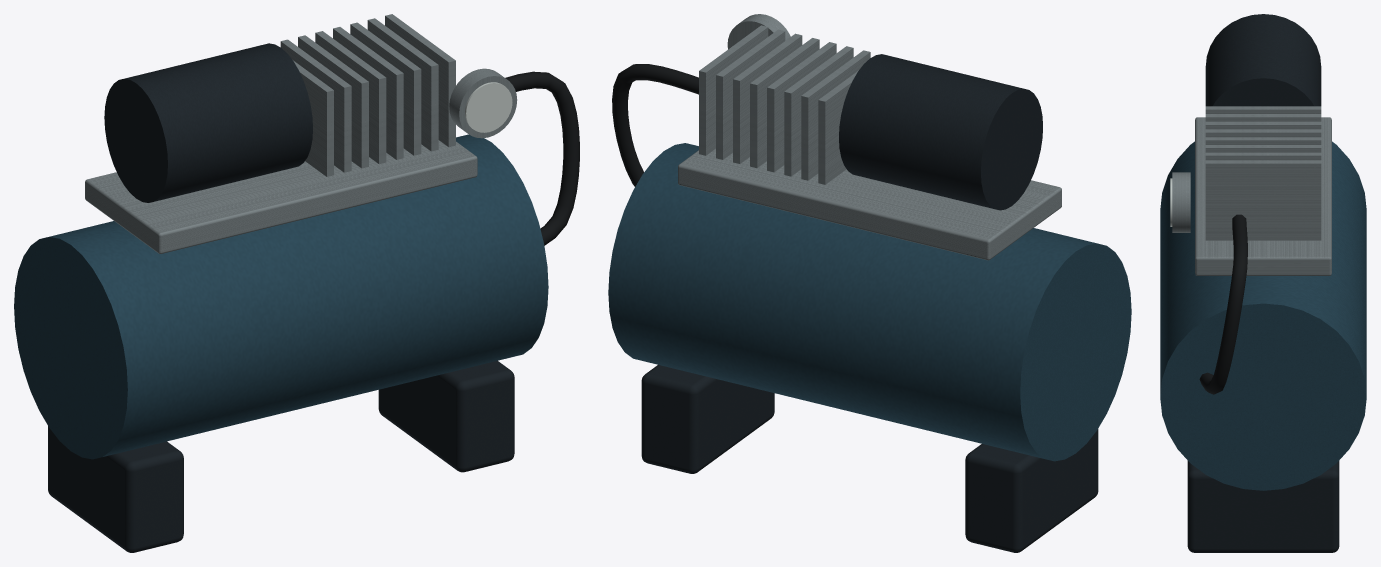
File: air-compressor.d7683fecf872.glb
3 views of the same model, side by side, from view 1: azimuth 30°, elevation 25°; view 2: azimuth 150°, elevation 25°; view 3: azimuth 270°, elevation 25° (orthographic). The views are drawn at different scales.
Visible parts, largest first — view 1: air_receiver_0001, motor_0005, motor_platform_0004, saddle_0002, saddle_0003, air_line_0016, cooling_fin_0011, cooling_fin_0009, cooling_fin_0012, cooling_fin_0008, cooling_fin_0010, cooling_fin_0007 (+4 smaller); view 2: air_receiver_0001, motor_0005, motor_platform_0004, saddle_0002, saddle_0003, air_line_0016, cooling_fin_0008, cooling_fin_0009, cooling_fin_0007, cooling_fin_0012, cooling_fin_0010, cooling_fin_0013 (+3 smaller); view 3: air_receiver_0001, saddle_0003, motor_0005, cooling_fin_0013, motor_platform_0004, air_line_0016, gauge_0014, cooling_fin_0009, cooling_fin_0008, cooling_fin_0012, cooling_fin_0006, cooling_fin_0007 (+2 smaller).
Part boxes in pixels (x1=…): air_receiver_0001: x1=14, y1=134, x2=548, y2=459; motor_0005: x1=104, y1=43, x2=312, y2=202; motor_platform_0004: x1=85, y1=140, x2=477, y2=253; saddle_0002: x1=48, y1=426, x2=183, y2=552; saddle_0003: x1=378, y1=360, x2=514, y2=472; air_line_0016: x1=505, y1=71, x2=579, y2=245; cooling_fin_0011: x1=350, y1=22, x2=421, y2=155; cooling_fin_0009: x1=315, y1=31, x2=386, y2=164; cooling_fin_0012: x1=367, y1=18, x2=438, y2=151; cooling_fin_0008: x1=298, y1=35, x2=368, y2=168; cooling_fin_0010: x1=333, y1=27, x2=403, y2=159; cooling_fin_0007: x1=280, y1=39, x2=351, y2=172; air_receiver_0001: x1=608, y1=143, x2=1131, y2=461; motor_0005: x1=839, y1=54, x2=1042, y2=210; motor_platform_0004: x1=678, y1=149, x2=1061, y2=260; saddle_0002: x1=965, y1=429, x2=1098, y2=552; saddle_0003: x1=641, y1=365, x2=774, y2=473; air_line_0016: x1=612, y1=64, x2=698, y2=186; cooling_fin_0008: x1=784, y1=46, x2=853, y2=176; cooling_fin_0009: x1=767, y1=42, x2=836, y2=172; cooling_fin_0007: x1=801, y1=50, x2=870, y2=180; cooling_fin_0012: x1=716, y1=29, x2=785, y2=159; cooling_fin_0010: x1=750, y1=38, x2=819, y2=168; cooling_fin_0013: x1=699, y1=25, x2=768, y2=155; air_receiver_0001: x1=1160, y1=141, x2=1366, y2=490; saddle_0003: x1=1187, y1=461, x2=1339, y2=552; motor_0005: x1=1205, y1=14, x2=1321, y2=106; cooling_fin_0013: x1=1205, y1=160, x2=1321, y2=240; motor_platform_0004: x1=1195, y1=117, x2=1331, y2=275; air_line_0016: x1=1199, y1=214, x2=1247, y2=394; gauge_0014: x1=1172, y1=172, x2=1190, y2=232; cooling_fin_0009: x1=1205, y1=129, x2=1321, y2=137; cooling_fin_0008: x1=1205, y1=121, x2=1321, y2=129; cooling_fin_0012: x1=1205, y1=152, x2=1321, y2=160; cooling_fin_0006: x1=1205, y1=106, x2=1321, y2=113; cooling_fin_0007: x1=1205, y1=114, x2=1321, y2=121.
Bounding box in the file's own units: 1.69 × 1.42 × 0.68.
Materials: 5 (3 with a texture image).
